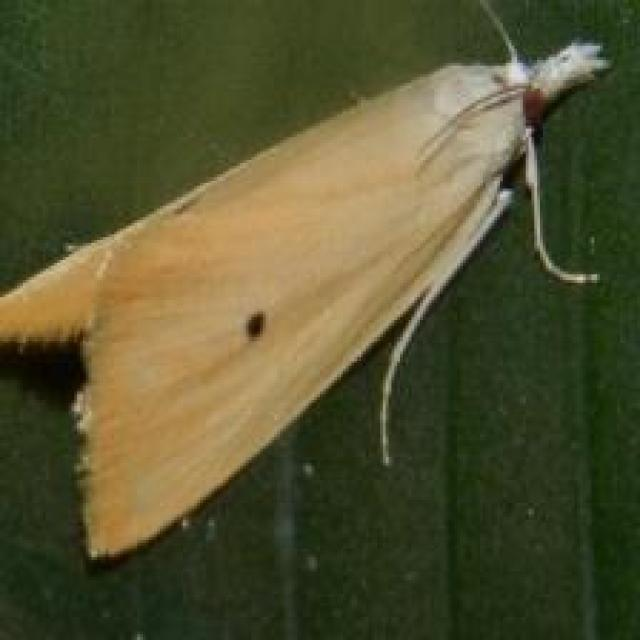yellow-stem-borer: (33, 15, 633, 548)
